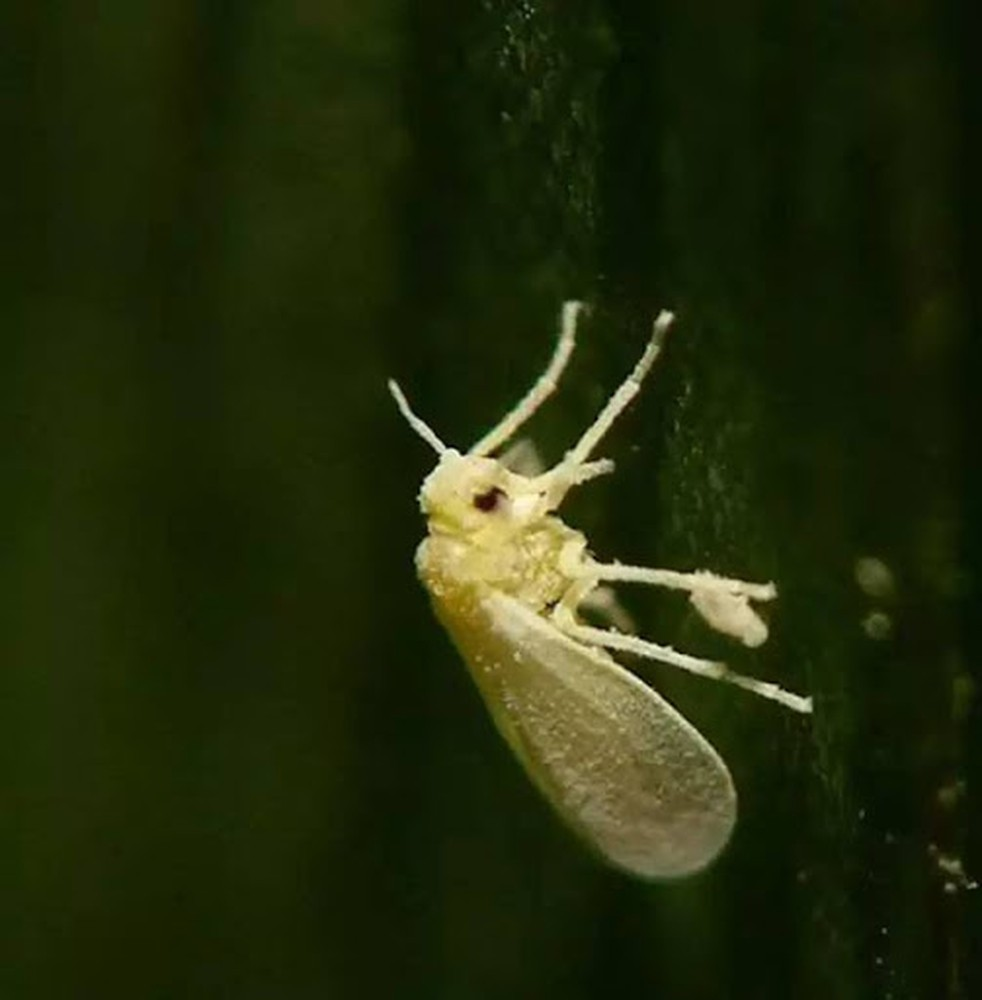Mosca Blanca: (340, 275, 854, 895)
